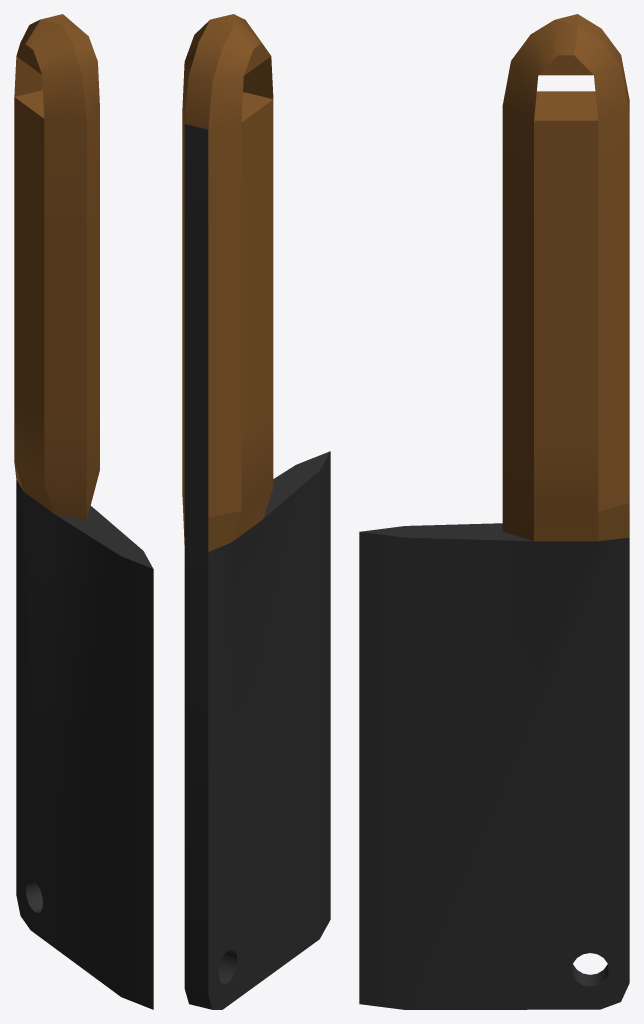
Rendered from decor_knife2.fbx.
The picture shows the model from 3 angles, left to right: view 1: azimuth 30°, elevation 25°; view 2: azimuth 150°, elevation 25°; view 3: azimuth 270°, elevation 25°; orthographic projection. The views are drawn at different scales.
Visible parts, largest first — view 1: decor_knife2; view 2: decor_knife2; view 3: decor_knife2.
Part boxes in pixels (left/top/right/bottom): decor_knife2: left=14, top=14, right=153, bottom=1009; decor_knife2: left=182, top=14, right=330, bottom=1009; decor_knife2: left=359, top=14, right=629, bottom=1009.
Bounding box in the file's own units: 2.27 × 35.82 × 8.91.
